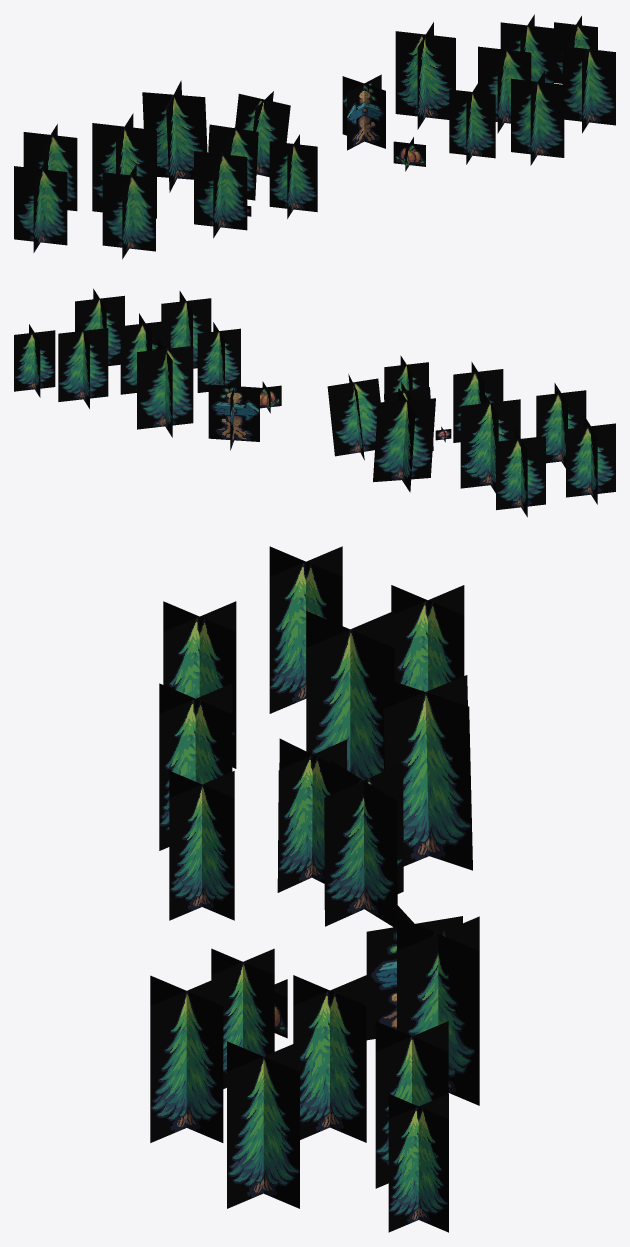
Rendered from Props6.glb.
3 views of the same model, one above another, from view 1: azimuth 30°, elevation 25°; view 2: azimuth 150°, elevation 25°; view 3: azimuth 270°, elevation 25° (orthographic). The views are drawn at different scales.
Parts seen in each view (by area): view 1: Props6; view 2: Props6; view 3: Props6.
Boxes of the visible parts, box(x1,y1,x2,y2) form: Props6: box(14, 14, 615, 259); Props6: box(14, 288, 615, 517); Props6: box(150, 546, 479, 1232).
Bounding box in the file's own units: 7.57 × 1.12 × 1.94.
1 material, 1 textured.
